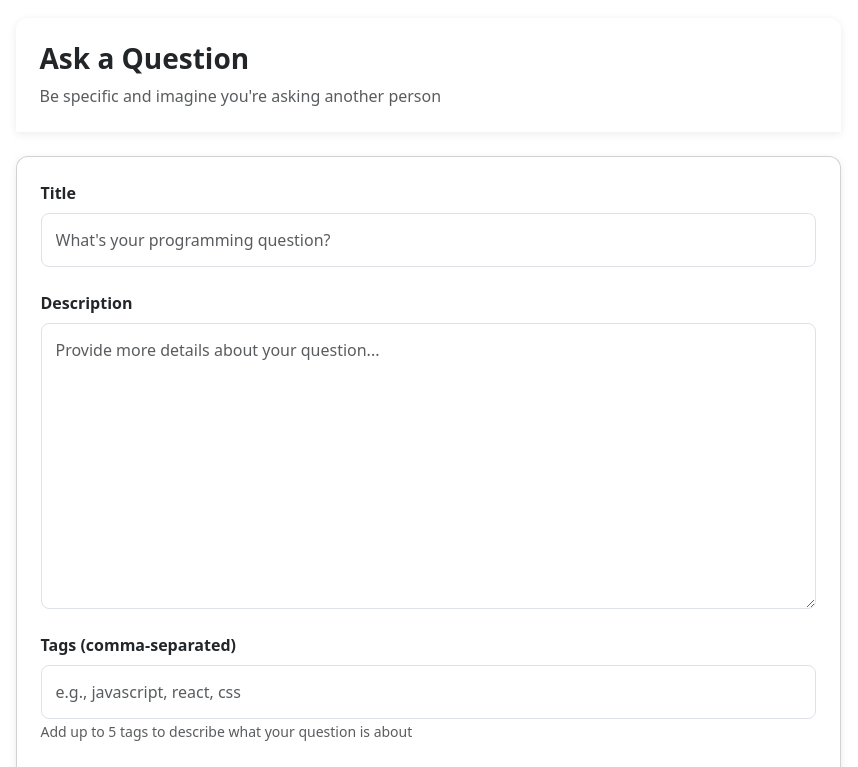
it: Feature 1: Question Quality Improver › rejecting the description dismisses it without changing the field
Type "old title" into the field with placeholder "What's your programming question?" at [428, 240], box left=40, top=213, right=816, bottom=267
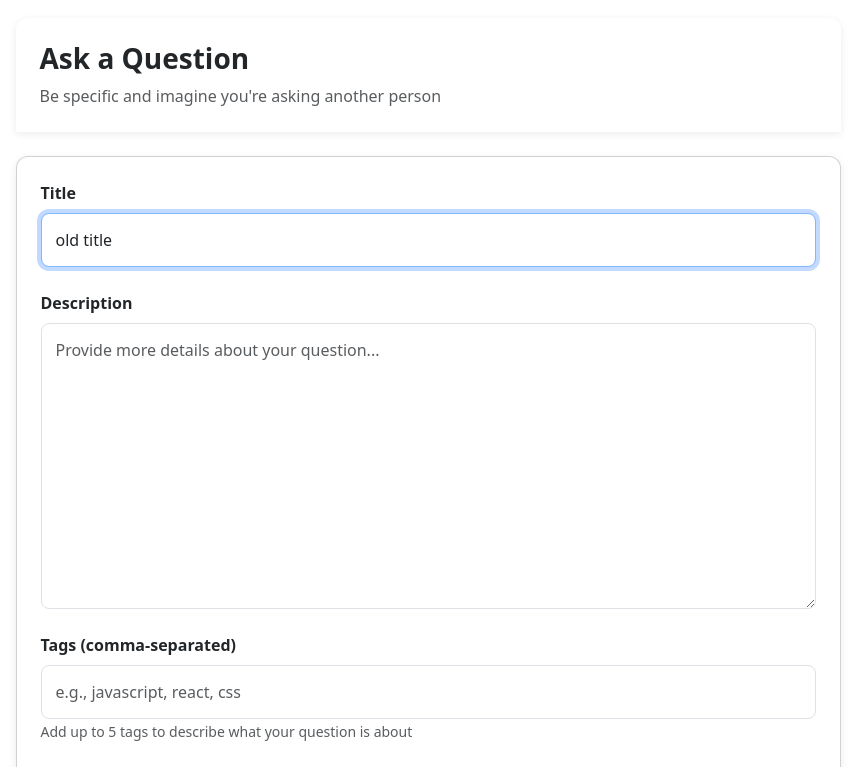
Type "old description" into the text box with placeholder "Provide more details about your question..." at [428, 466], box left=40, top=323, right=816, bottom=608
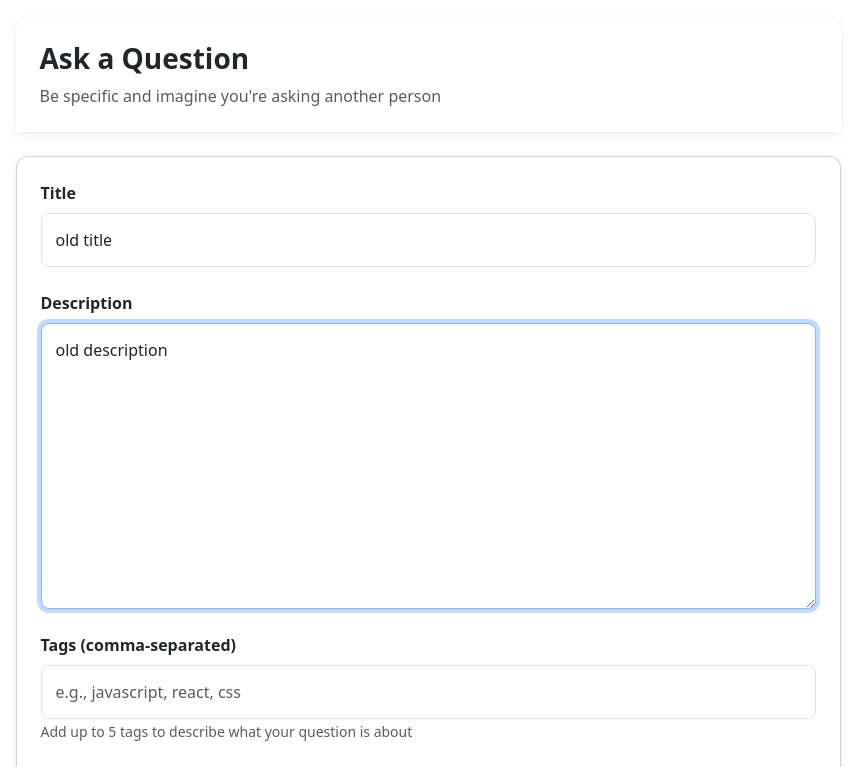
Type "old-tag" into the field with placeholder "e.g., javascript, react, css" at [428, 692], box left=40, top=664, right=816, bottom=718
(page scrolled)
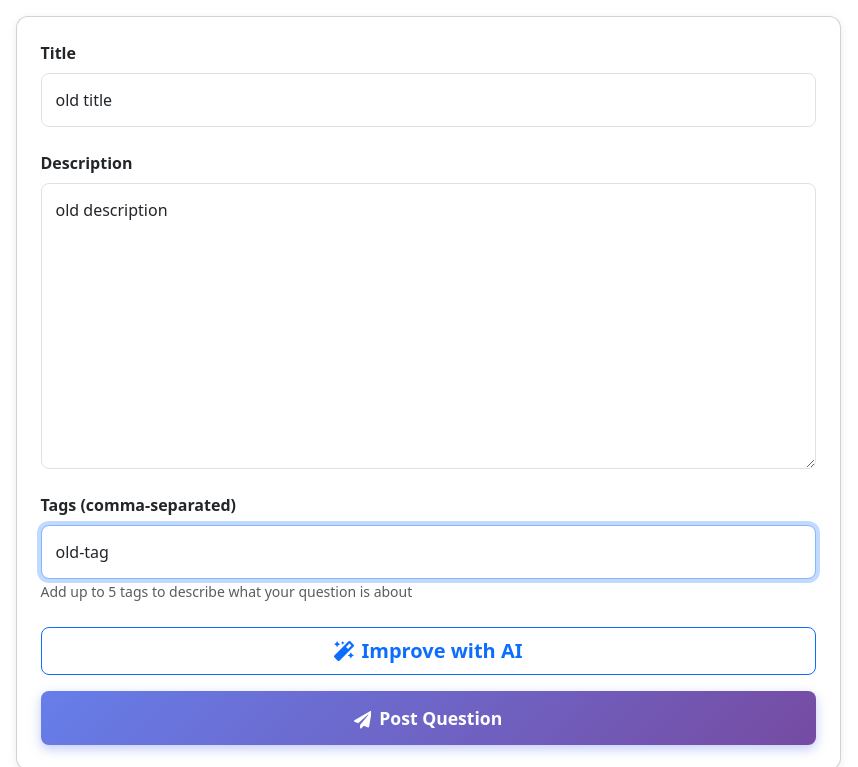
Click the button "Improve with AI" at [428, 650], box left=40, top=626, right=816, bottom=674
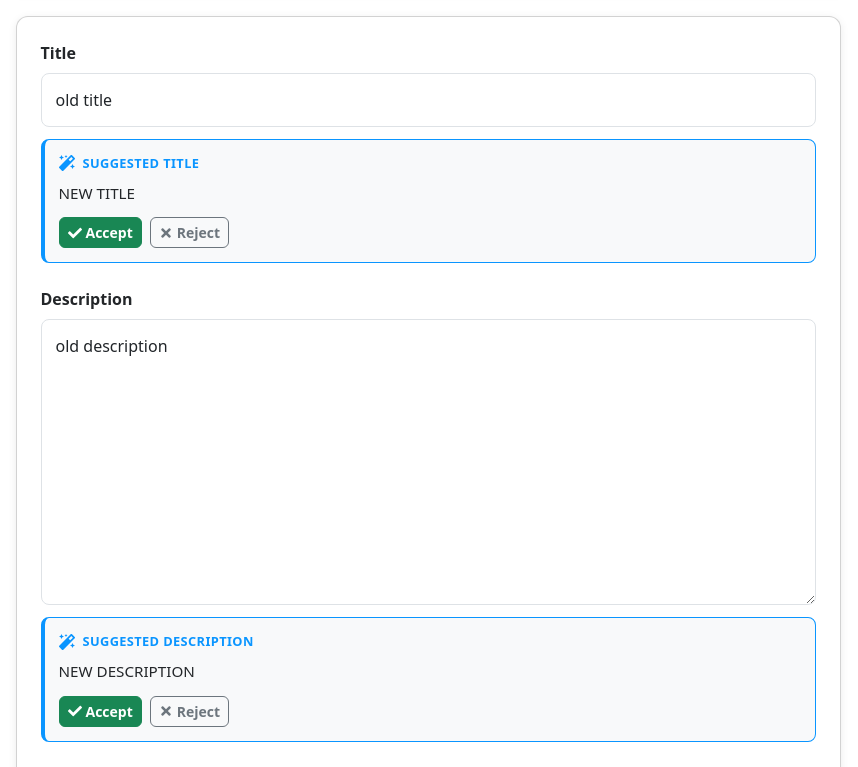
Expected: the text "NEW DESCRIPTION" is shown, left=58, top=661, right=195, bottom=681
Click the button "Reject" below "NEW DESCRIPTION" at [189, 711], box left=150, top=696, right=229, bottom=726
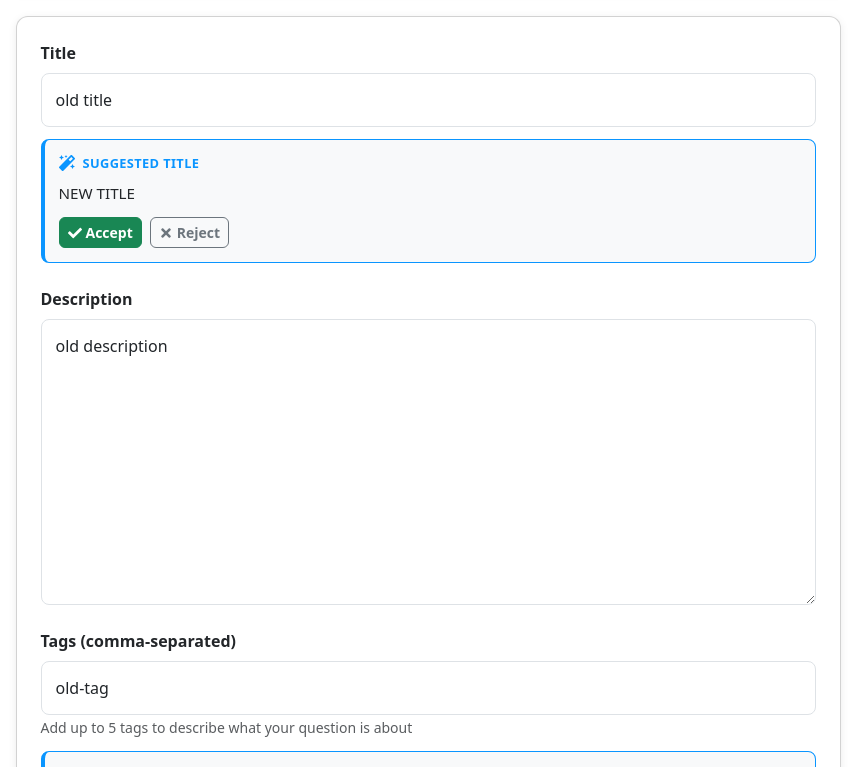
Expected: the text "Suggested description" is gone
